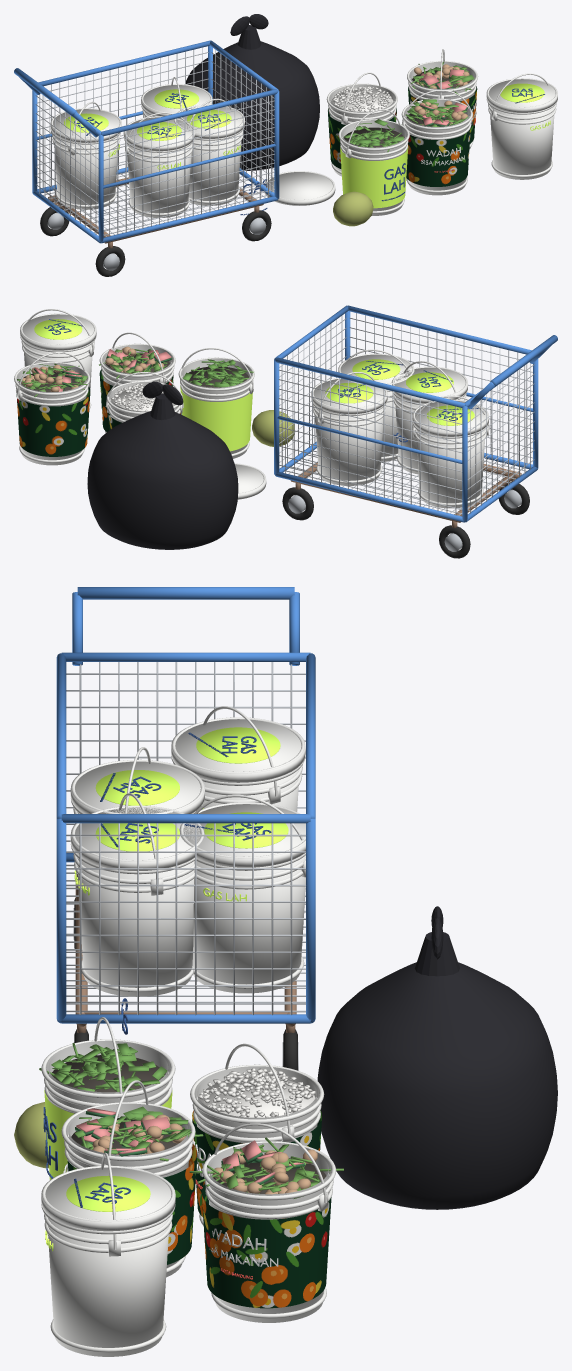
Rendered from gaslah.glb.
3 views of the same model, one above another, from view 1: azimuth 30°, elevation 25°; view 2: azimuth 150°, elevation 25°; view 3: azimuth 270°, elevation 25° (orthographic). The views are drawn at different scales.
Parts seen in each view (by area): view 1: Gerobak_Kawat, Kantong_Sampah_Besar, Ember_Lantai_4, Ember_GasLah_Tutup_1, Ember_Lantai_0, Ember_GasLah_Tutup_2, Ember_GasLah_Tutup_0, Ember_Lantai_1, Tutup_Plastik_Kelapa, Ember_Lantai_1_PitaMotif, Ember_Lantai_2, Ember_Lantai_3 (+4 smaller); view 2: Gerobak_Kawat, Kantong_Sampah_Besar, Ember_GasLah_Tutup_2, Ember_GasLah_Tutup_3, Ember_Lantai_0, Ember_Lantai_3_PitaMotif, Ember_Lantai_4, Ember_Lantai_3, Ember_GasLah_Tutup_1, Ember_Lantai_1, Ember_GasLah_Tutup_0, Tutup_Plastik_Kelapa (+3 smaller); view 3: Kantong_Sampah_Besar, Gerobak_Kawat, Ember_Lantai_4, Ember_GasLah_Tutup_0, Ember_GasLah_Tutup_3, Ember_Lantai_3, Ember_Lantai_3_PitaMotif, Ember_GasLah_Tutup_2, Ember_Lantai_0, Ember_Lantai_2, Ember_Lantai_1, Ember_GasLah_Tutup_1 (+4 smaller).
Part boxes in pixels (x1,y1,x2,y2): Gerobak_Kawat: (14,40,279,276); Kantong_Sampah_Besar: (186,41,319,170); Ember_Lantai_4: (486,73,557,179); Ember_GasLah_Tutup_1: (123,112,194,217); Ember_Lantai_0: (338,109,409,215); Ember_GasLah_Tutup_2: (50,101,121,209); Ember_GasLah_Tutup_0: (173,98,244,205); Ember_Lantai_1: (401,90,472,195); Tutup_Plastik_Kelapa: (264,171,373,226); Ember_Lantai_1_PitaMotif: (401,124,470,186); Ember_Lantai_2: (326,72,397,176); Ember_Lantai_3: (407,49,478,149); Gerobak_Kawat: (274,305,557,558); Kantong_Sampah_Besar: (87,411,238,549); Ember_GasLah_Tutup_2: (412,395,489,508); Ember_GasLah_Tutup_3: (311,372,387,485); Ember_Lantai_0: (178,348,254,458); Ember_Lantai_3_PitaMotif: (16,386,90,456); Ember_Lantai_4: (20,309,96,409); Ember_Lantai_3: (14,352,90,465); Ember_GasLah_Tutup_1: (391,361,467,474); Ember_Lantai_1: (99,332,175,432); Ember_GasLah_Tutup_0: (338,349,414,462); Tutup_Plastik_Kelapa: (234,410,294,499); Kantong_Sampah_Besar: (317,962,557,1209); Gerobak_Kawat: (56,587,315,1070); Ember_Lantai_4: (41,1152,175,1356); Ember_GasLah_Tutup_0: (70,793,204,996); Ember_GasLah_Tutup_3: (179,794,305,993); Ember_Lantai_3: (189,1123,343,1322); Ember_Lantai_3_PitaMotif: (201,1184,331,1308); Ember_GasLah_Tutup_2: (171,706,305,811); Ember_Lantai_0: (39,1017,175,1179); Ember_Lantai_2: (190,1043,324,1227); Ember_Lantai_1: (61,1080,203,1277); Ember_GasLah_Tutup_1: (70,747,204,823).
Size of the model in its own units: 2.65 by 0.909 by 1.35.
Materials: 18 (1 with a texture image).
